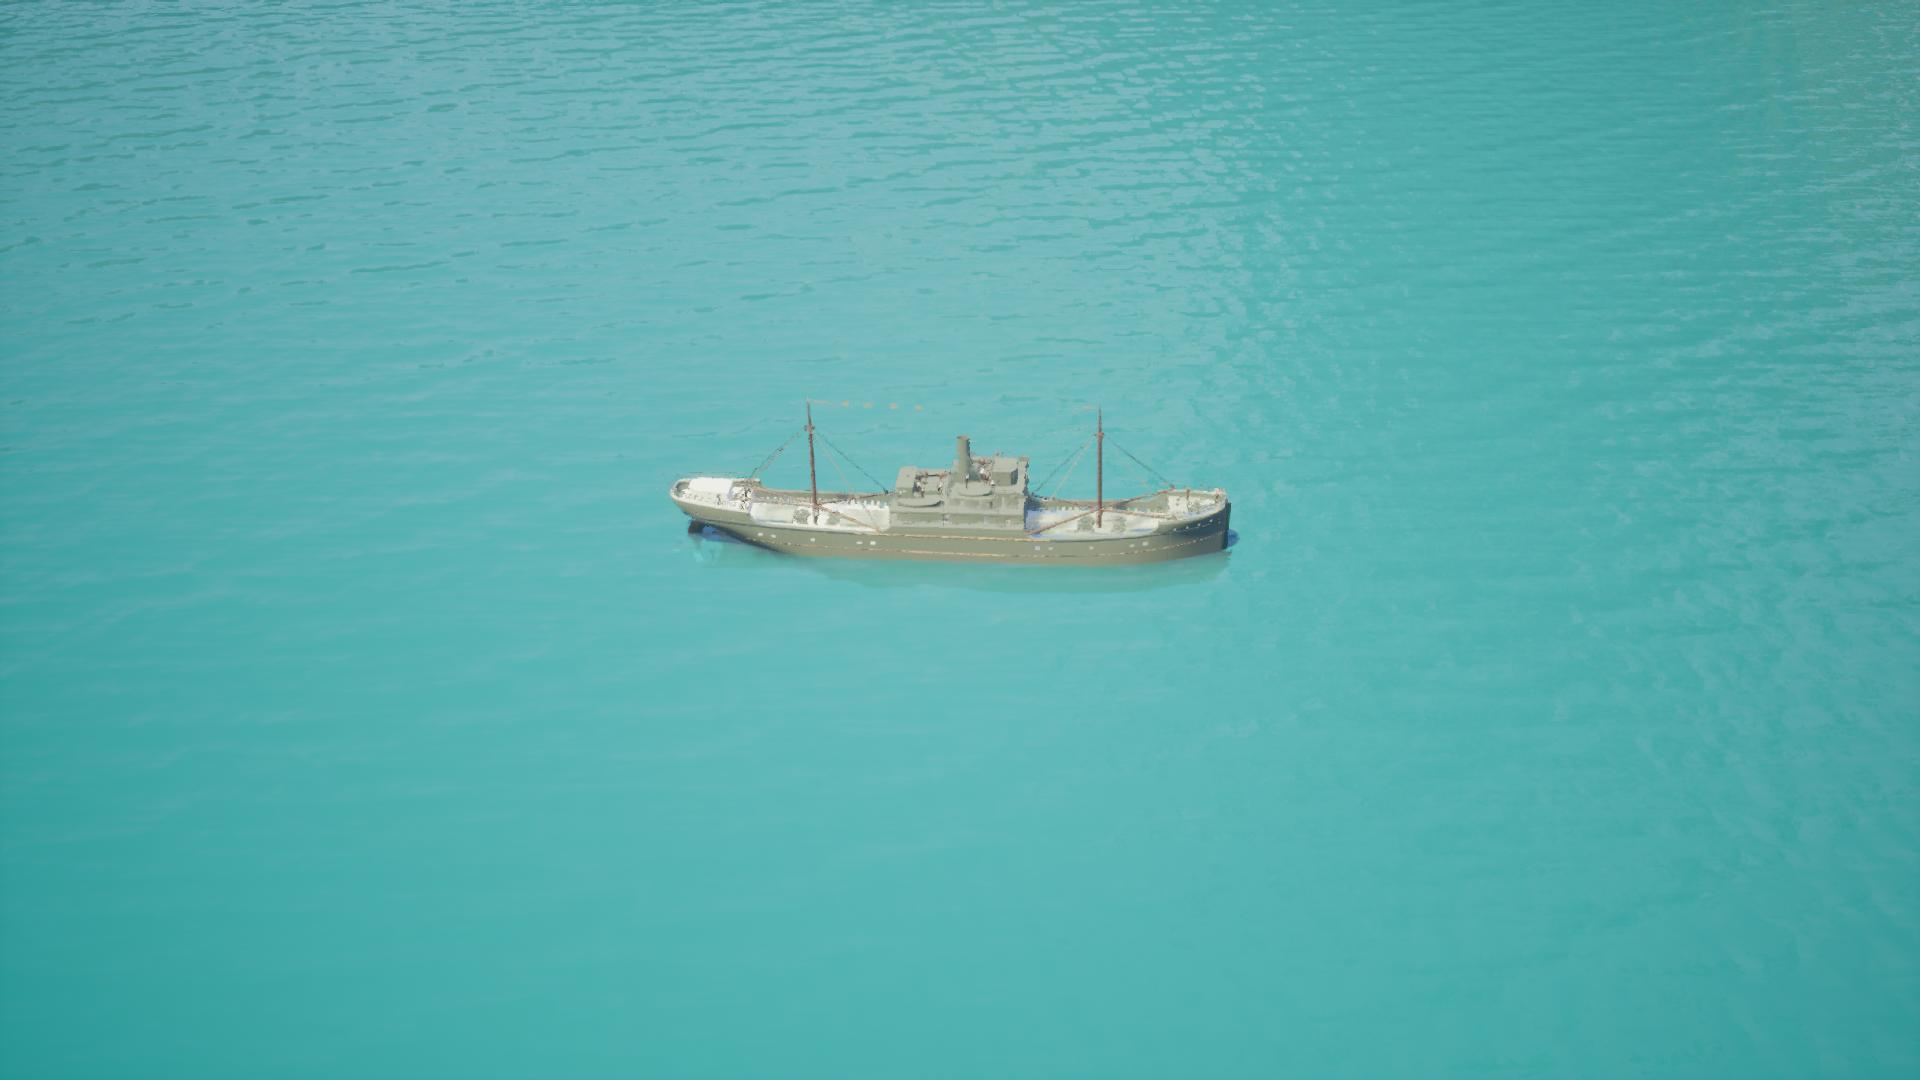Fishing Boat: (669, 405, 1234, 570)
